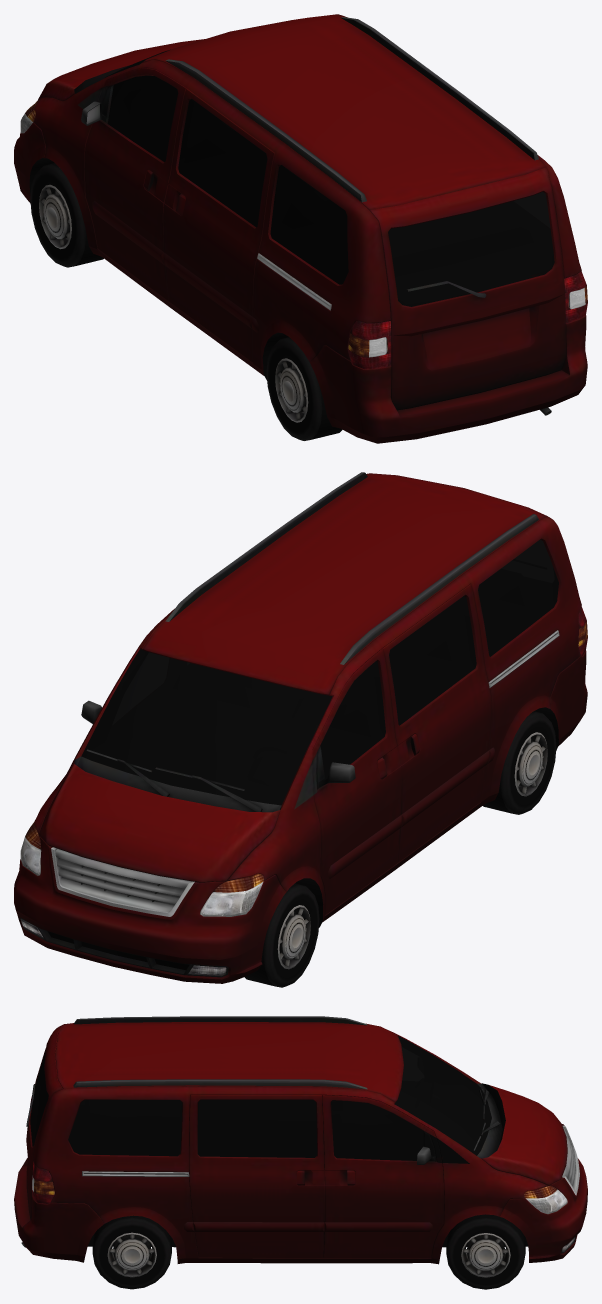
The model's file is c_van.glb.
The picture shows the model from 3 angles, top to bottom: view 1: azimuth 30°, elevation 25°; view 2: azimuth 150°, elevation 25°; view 3: azimuth 270°, elevation 25°; orthographic projection. The views are drawn at different scales.
Parts seen in each view (by area): view 1: body|Body_2, body|glass, body|Wheel_1, body|Optics_2; view 2: body|Body_2, body|glass, body|Wheel_1, body|Optics_2; view 3: body|Body_2, body|glass, body|Wheel_1, body|Optics_2.
Boxes of the visible parts, x1,y1,x2,y2 form: body|Body_2: (14,14,587,443); body|glass: (105,49,554,306); body|Wheel_1: (30,163,342,440); body|Optics_2: (20,101,587,369); body|Body_2: (14,472,587,983); body|glass: (81,539,558,805); body|Wheel_1: (244,711,556,987); body|Optics_2: (20,606,587,974); body|Body_2: (14,1016,587,1264); body|glass: (30,1035,491,1163); body|Wheel_1: (92,1214,525,1289); body|Optics_2: (32,1161,574,1251).
Size of the model in its own units: 1.87 by 1.76 by 4.61.
4 materials, 3 textured.
